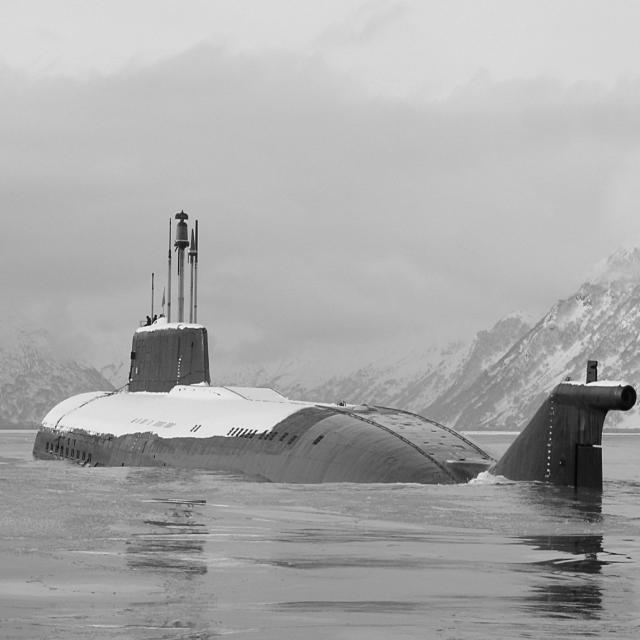submarine: (30, 203, 640, 514)
